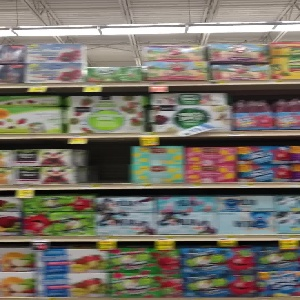void: (78, 141, 134, 187)
